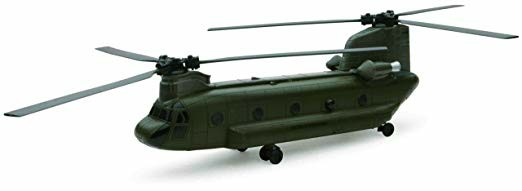chinook: (53, 5, 515, 163)
